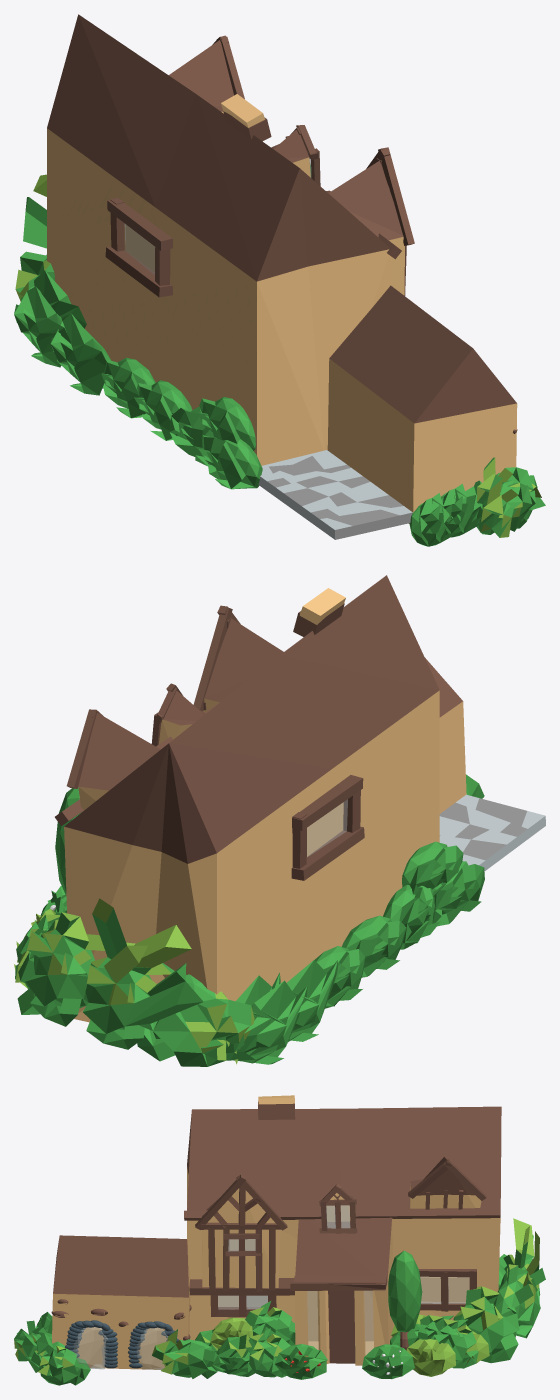
File: Level1_shrubhouse.fbx
3 views of the same model, one above another, from view 1: azimuth 30°, elevation 25°; view 2: azimuth 150°, elevation 25°; view 3: azimuth 270°, elevation 25° (orthographic). The views are drawn at different scales.
Visible parts, largest first — view 1: Node; view 2: Node; view 3: Node.
Boxes of the visible parts, <box> form: Node: <box>14,14,545,546</box>; Node: <box>14,575,545,1066</box>; Node: <box>14,1095,545,1385</box>.
Bounding box in the file's own units: 10189 × 11642 × 22664.
